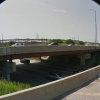Bridge: (4, 30, 94, 65)
